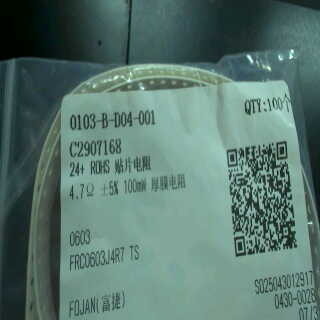4.7R: (65, 182, 100, 204)
